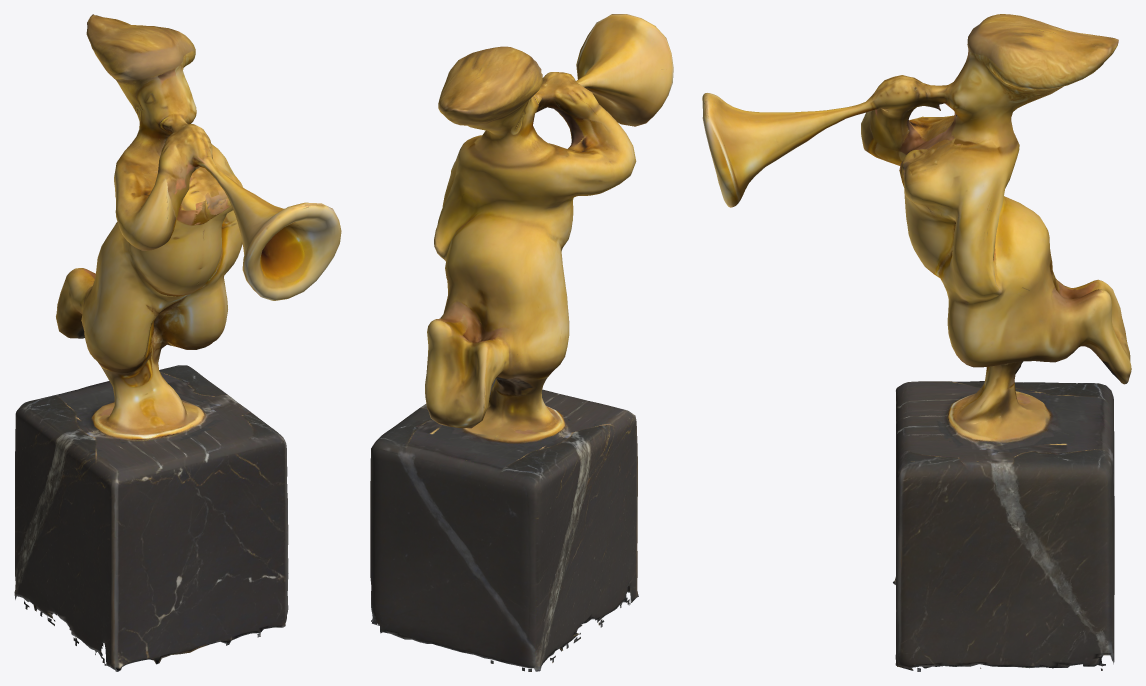
File: goldenAmpe.glb
The picture shows the model from 3 angles, left to right: view 1: azimuth 30°, elevation 25°; view 2: azimuth 150°, elevation 25°; view 3: azimuth 270°, elevation 25°; orthographic projection. The views are drawn at different scales.
Size of the model in its own units: 0.6386 by 2 by 1.28.
Materials: 1 (1 with a texture image).
